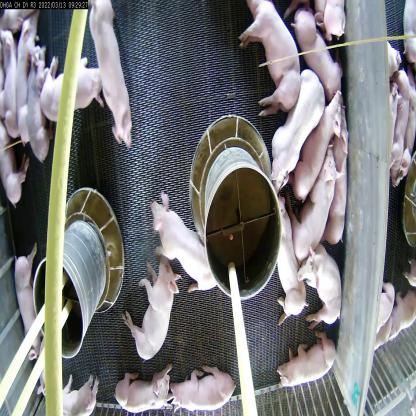Pig: (236, 0, 300, 121), (268, 64, 326, 186), (154, 186, 221, 291), (84, 0, 132, 145), (289, 89, 348, 197), (124, 264, 182, 364), (20, 44, 62, 166), (269, 198, 311, 314), (295, 247, 346, 328), (170, 356, 238, 416), (299, 150, 339, 251), (12, 7, 40, 145), (280, 333, 341, 391), (46, 62, 109, 116), (10, 244, 42, 348), (0, 112, 28, 212), (47, 370, 102, 415), (110, 376, 173, 415)
